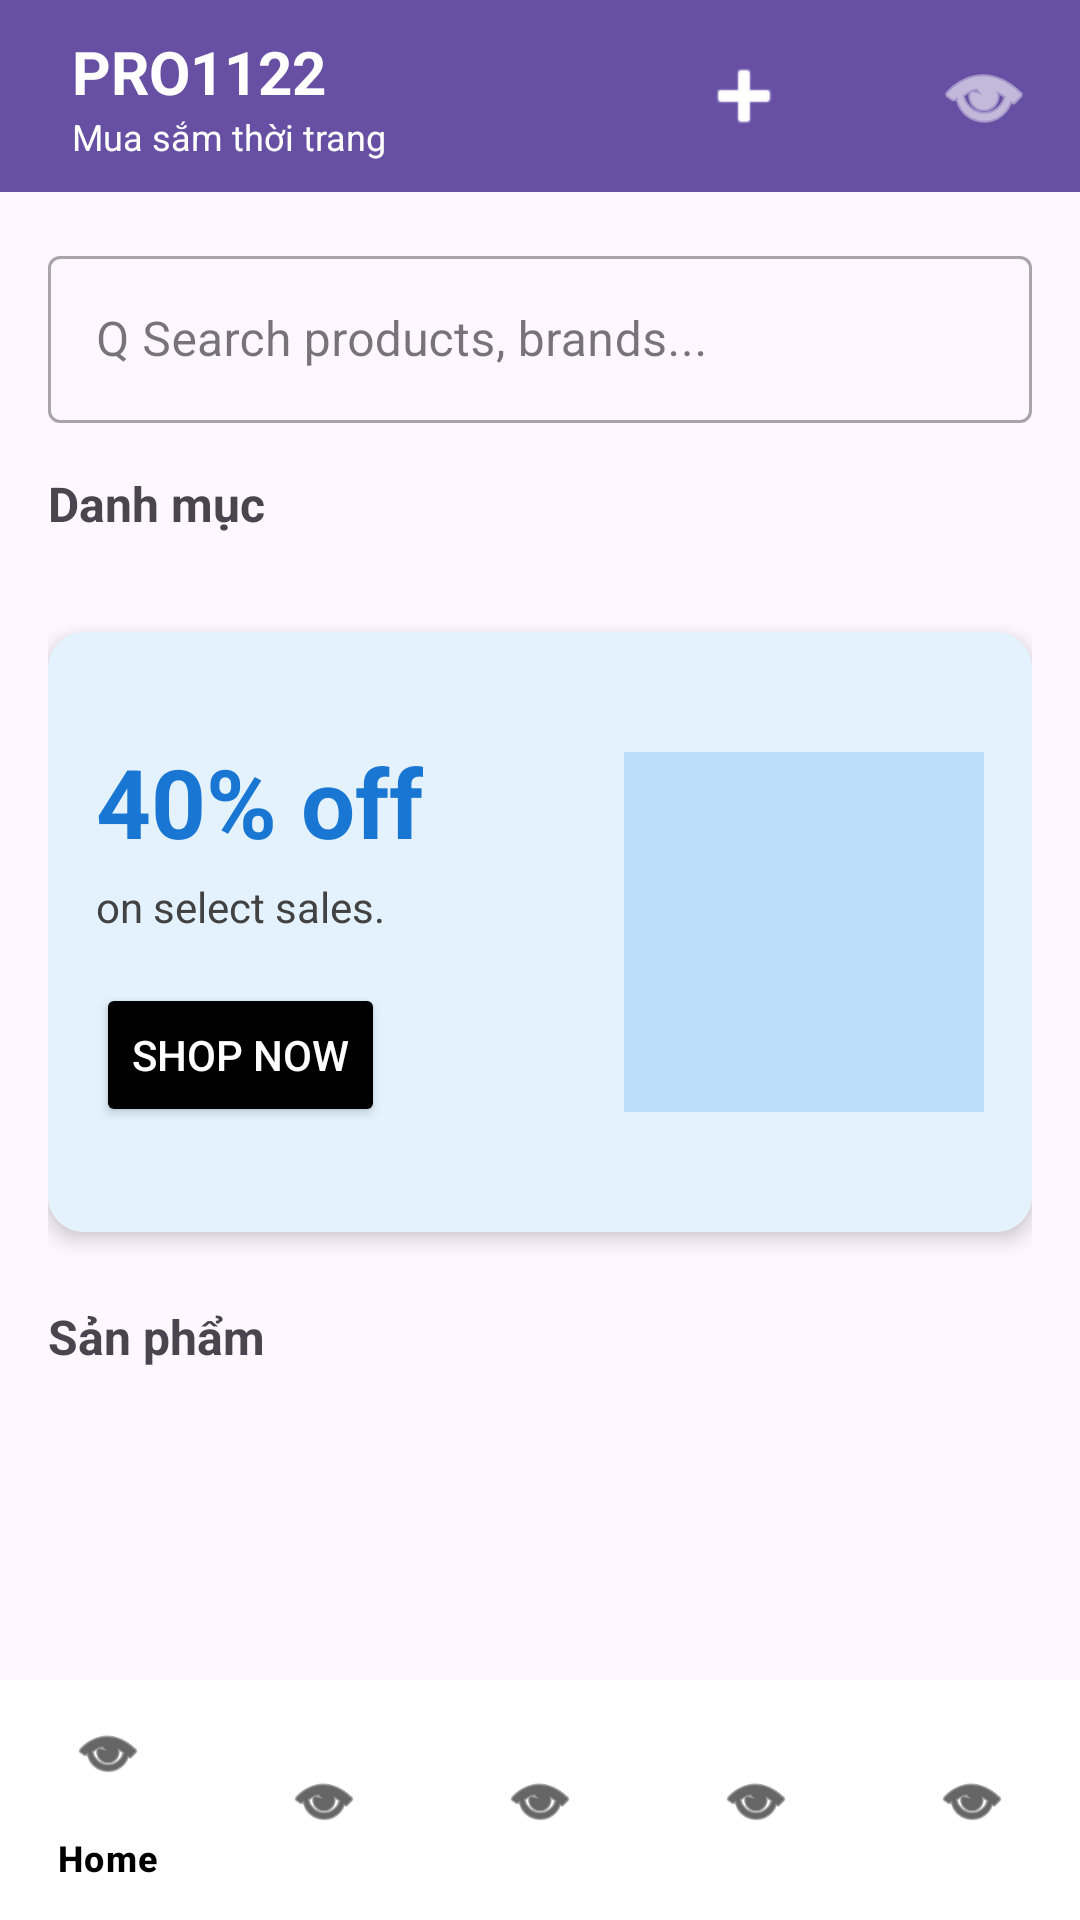

Icon click points for this 1080px x 1920px phone screenshot, format (x,y):
Thêm sản phẩm: (744,96)
view: (984,98)
